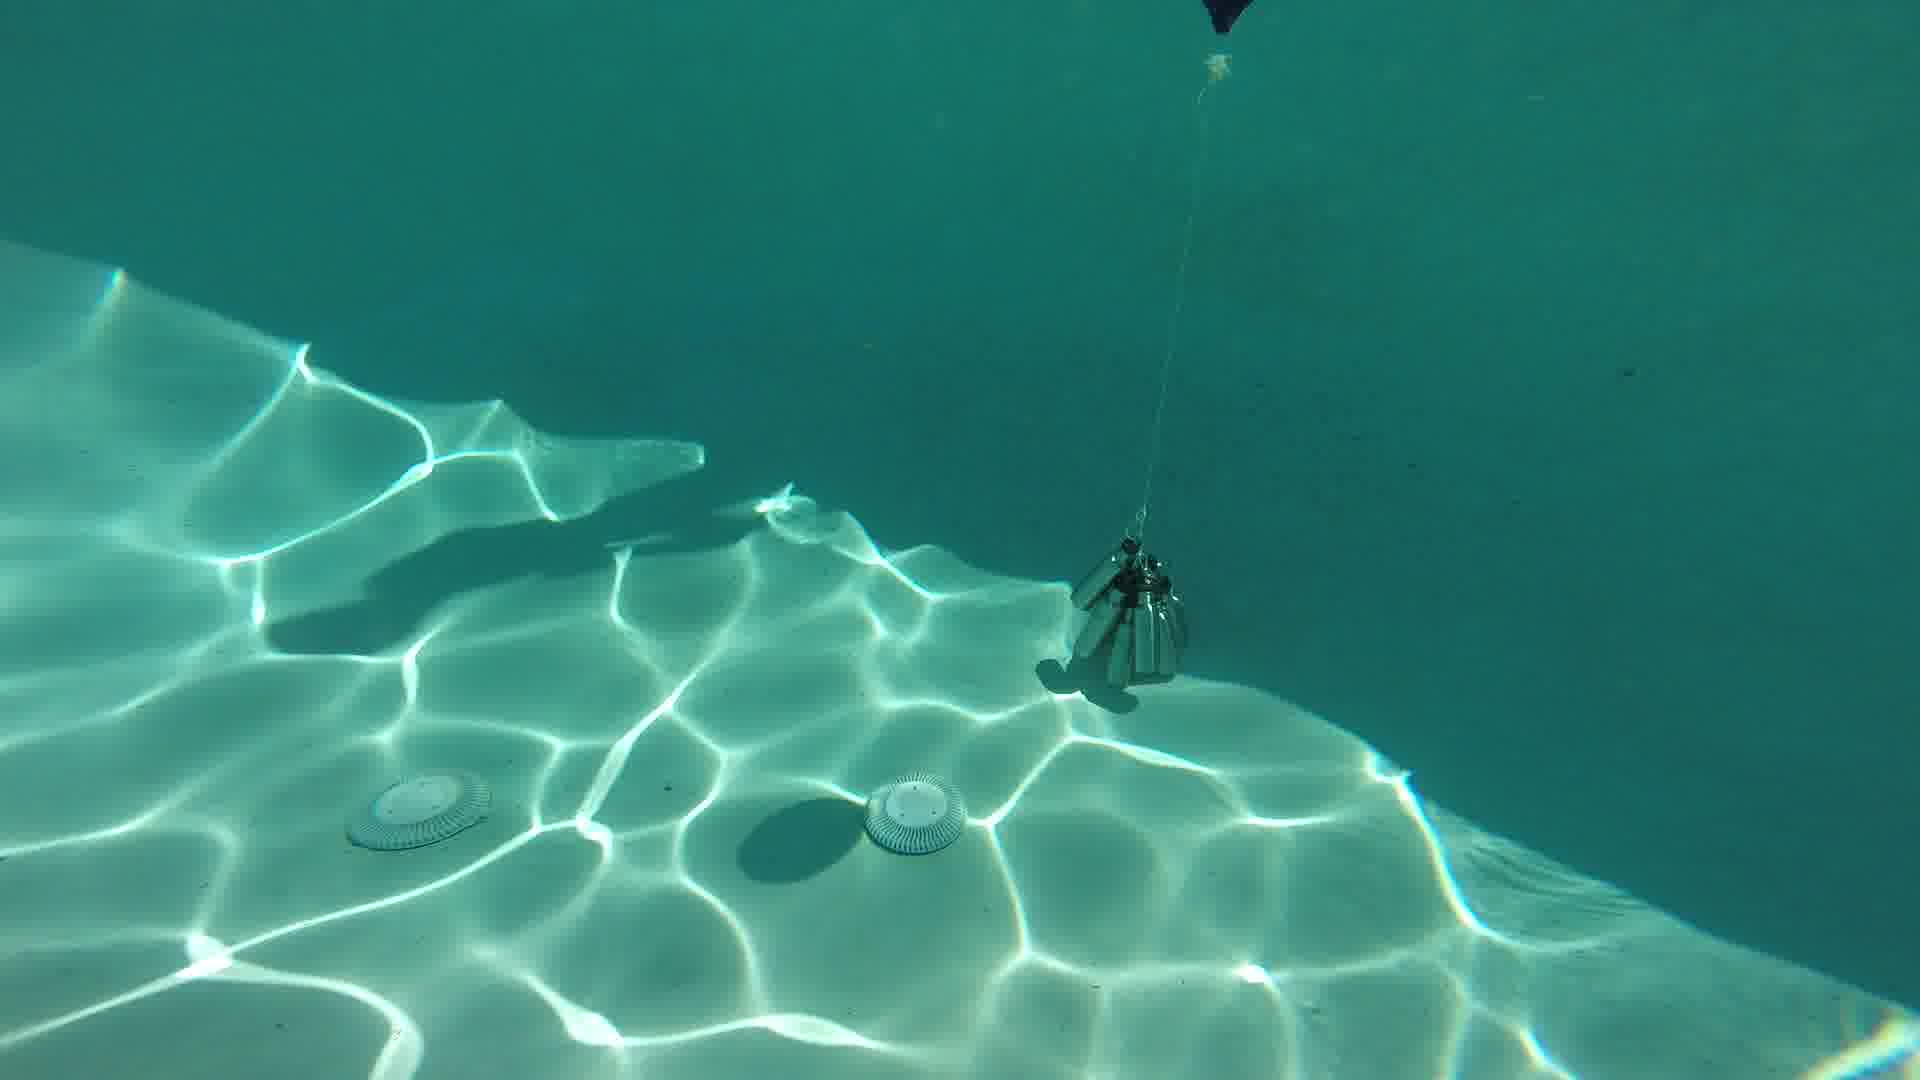yellow_buoy: (1199, 1, 1258, 87)
